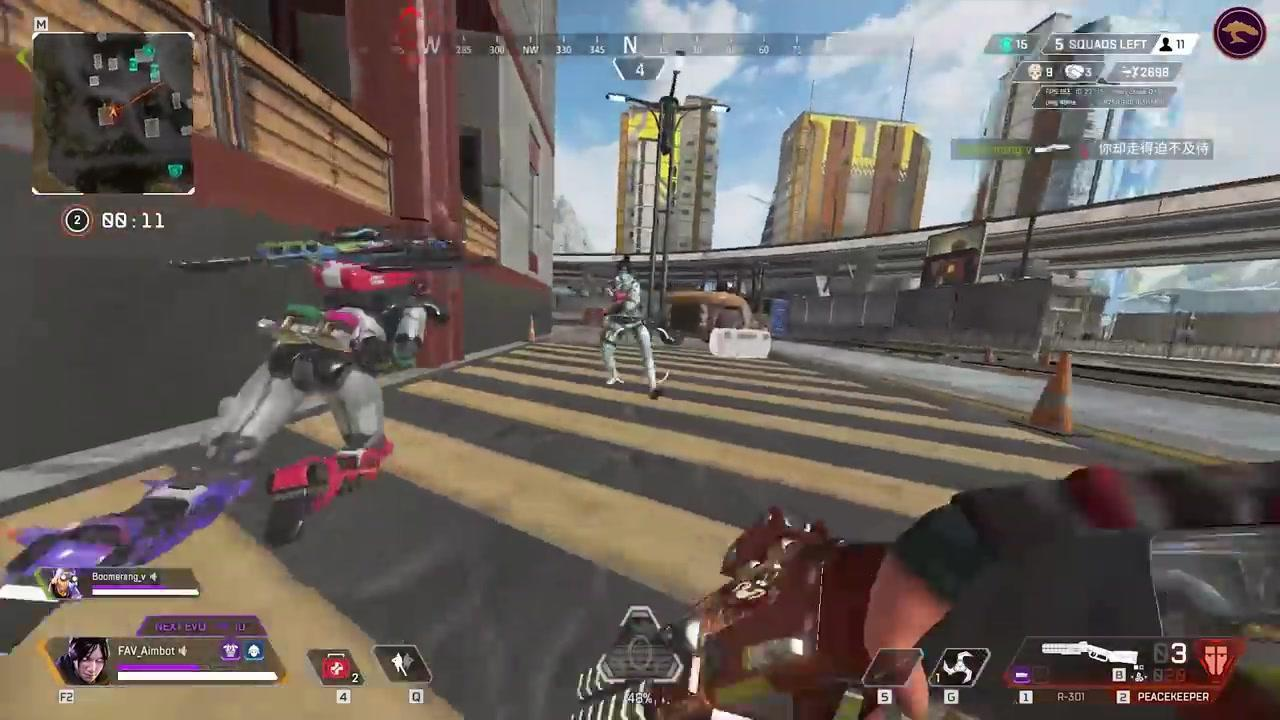avatar: (596, 252, 666, 402)
